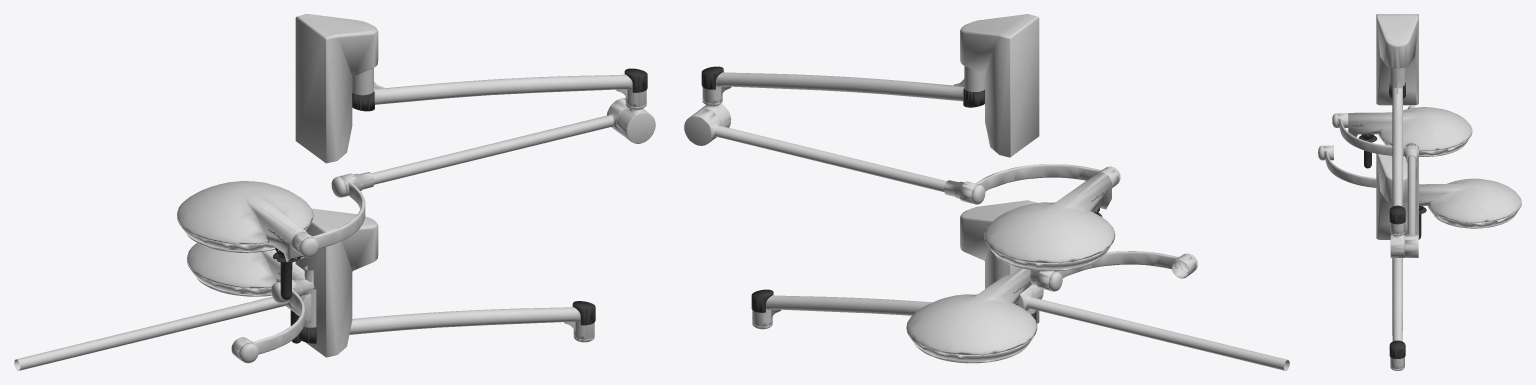
The model's file is light_surgical_ceiling_arm_b01.glb.
3 renders of one model, left to right at view 1: azimuth 30°, elevation 25°; view 2: azimuth 150°, elevation 25°; view 3: azimuth 270°, elevation 25°, orthographic. The views are drawn at different scales.
Visible parts, largest first — view 1: base_01_mesh_00 (×2), lamp_01_mesh_00 (×2), arm_01_mesh_00 (×2), arm_02_mesh_00 (×2), arm_03_mesh_00 (×2), lampGlass_a01_mesh_00 (×2); view 2: lamp_01_mesh_00 (×2), base_01_mesh_00 (×2), arm_01_mesh_00 (×2), arm_02_mesh_00 (×2), arm_03_mesh_00 (×2), lampGlass_a01_mesh_00 (×2); view 3: lamp_01_mesh_00 (×2), base_01_mesh_00 (×2), arm_01_mesh_00 (×2), arm_03_mesh_00 (×2), arm_02_mesh_00, lampGlass_a01_mesh_00 (×2).
Boxes of the visible parts, x1,y1,x2,y2 form: base_01_mesh_00 (×2): (295, 14, 378, 357); lamp_01_mesh_00 (×2): (177, 181, 313, 343); arm_01_mesh_00 (×2): (298, 68, 647, 343); arm_02_mesh_00 (×2): (14, 98, 655, 370); arm_03_mesh_00 (×2): (231, 172, 374, 363); lampGlass_a01_mesh_00 (×2): (178, 217, 313, 296); lamp_01_mesh_00 (×2): (906, 172, 1115, 355); base_01_mesh_00 (×2): (960, 14, 1039, 323); arm_01_mesh_00 (×2): (701, 66, 1036, 329); arm_02_mesh_00 (×2): (684, 104, 1289, 370); arm_03_mesh_00 (×2): (944, 164, 1197, 291); lampGlass_a01_mesh_00 (×2): (907, 241, 1113, 363); lamp_01_mesh_00 (×2): (1348, 107, 1521, 239); base_01_mesh_00 (×2): (1376, 14, 1418, 239); arm_01_mesh_00 (×2): (1389, 67, 1405, 370); arm_03_mesh_00 (×2): (1318, 113, 1419, 187); arm_02_mesh_00: (1390, 156, 1418, 257); lampGlass_a01_mesh_00 (×2): (1380, 137, 1520, 228).
Size of the model in its own units: 1.62 by 0.9415 by 0.6622.
Materials: 8 (6 with a texture image).
